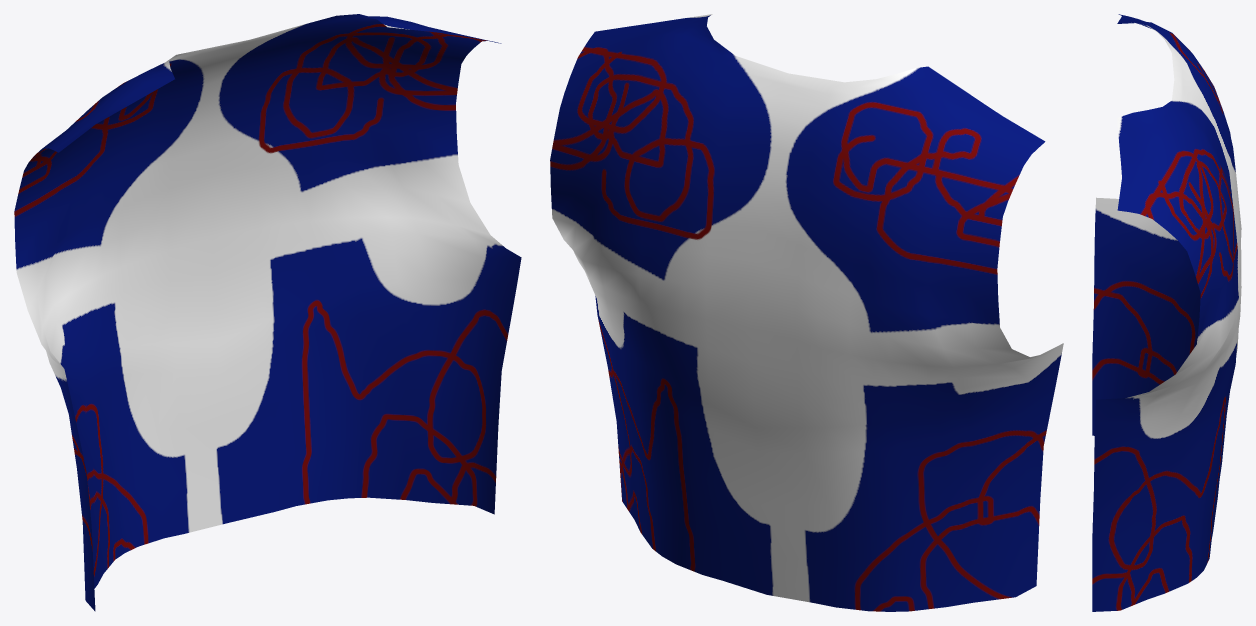
Rendered from back.glb.
3 renders of one model, left to right at view 1: azimuth 30°, elevation 25°; view 2: azimuth 150°, elevation 25°; view 3: azimuth 270°, elevation 25°, orthographic. The views are drawn at different scales.
Parts seen in each view (by area): view 1: back; view 2: back; view 3: back.
Boxes of the visible parts, x1=… form: back: x1=14, y1=14, x2=521, y2=611; back: x1=550, y1=14, x2=1063, y2=611; back: x1=1092, y1=14, x2=1241, y2=611.
Bounding box in the file's own units: 1.17 × 1.26 × 0.3662.
1 material, 1 textured.
